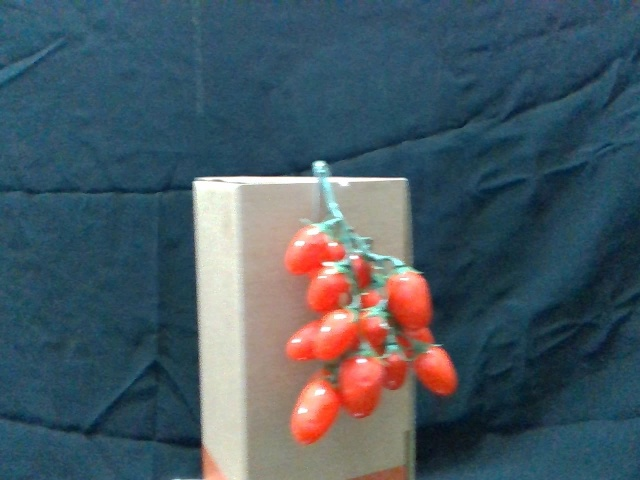tomato: (291, 374, 338, 443), (340, 347, 380, 419), (387, 266, 432, 329), (317, 305, 363, 363), (305, 263, 355, 312), (286, 221, 331, 275), (411, 344, 455, 395), (286, 321, 327, 364), (378, 341, 410, 388)
